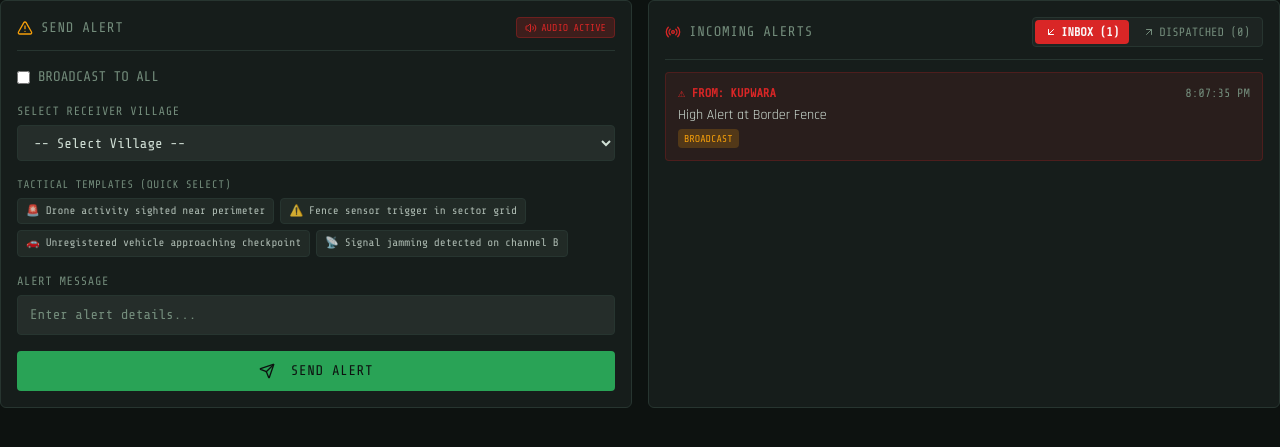
Component Rendering and User Interactions › AlertPanel handles sending alert messages
Expected: the text "SEND ALERT" is shown, [41,18,124,38]
Type "Perimeter breach detected sector 4" into the field with placeholder "Enter alert details...".
click(316, 314); type("Perimeter breach detected sector 4")  # box [17,294,615,334]
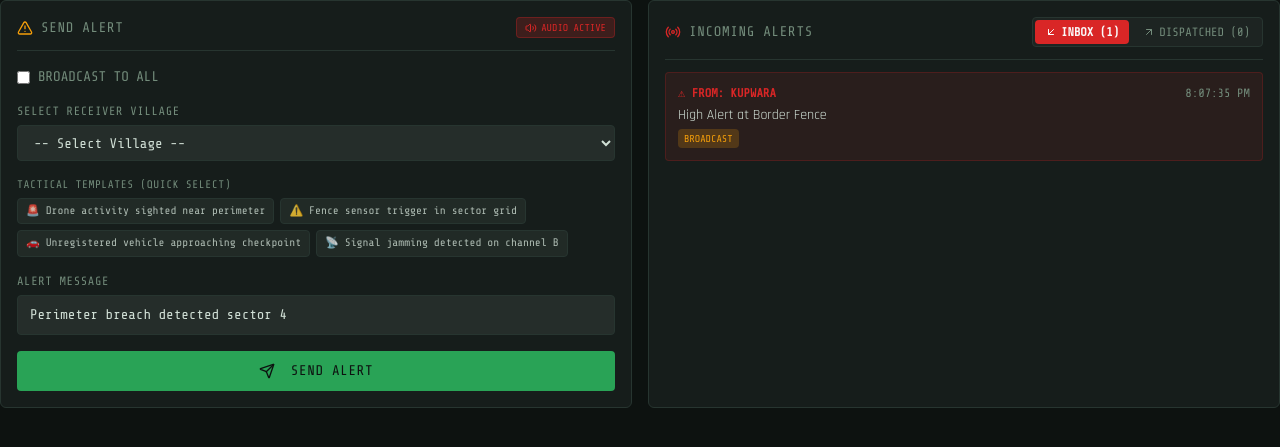
Enable broadcast
Click the checkbox labelled "BROADCAST TO ALL".
click(24, 77)  # box [17,70,30,84]
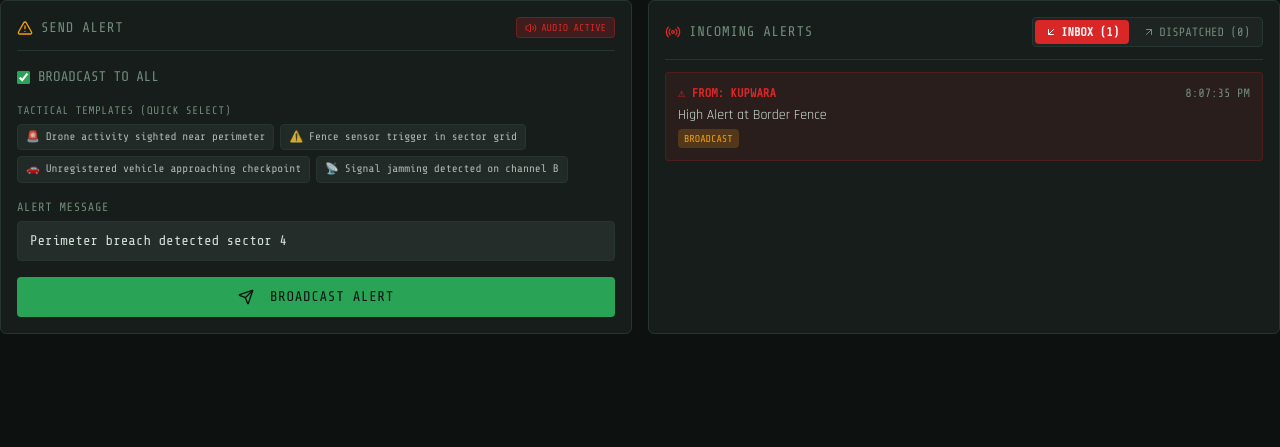
Click the button "BROADCAST ALERT".
click(316, 296)  # box [17,276,615,316]
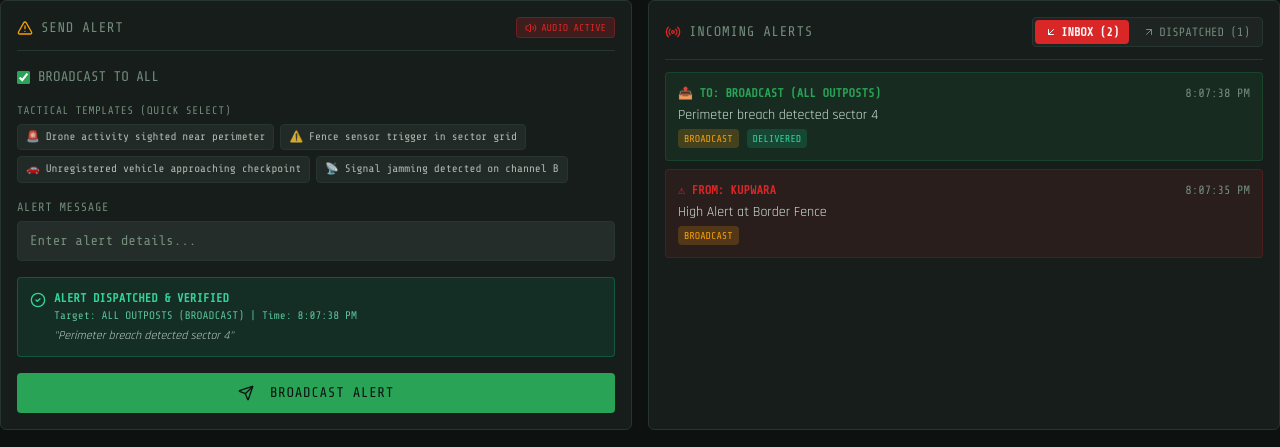
Result: the text "Perimeter breach detected sector 4" is shown at [678,106,878,124]
